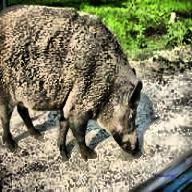boar: (0, 3, 142, 161)
